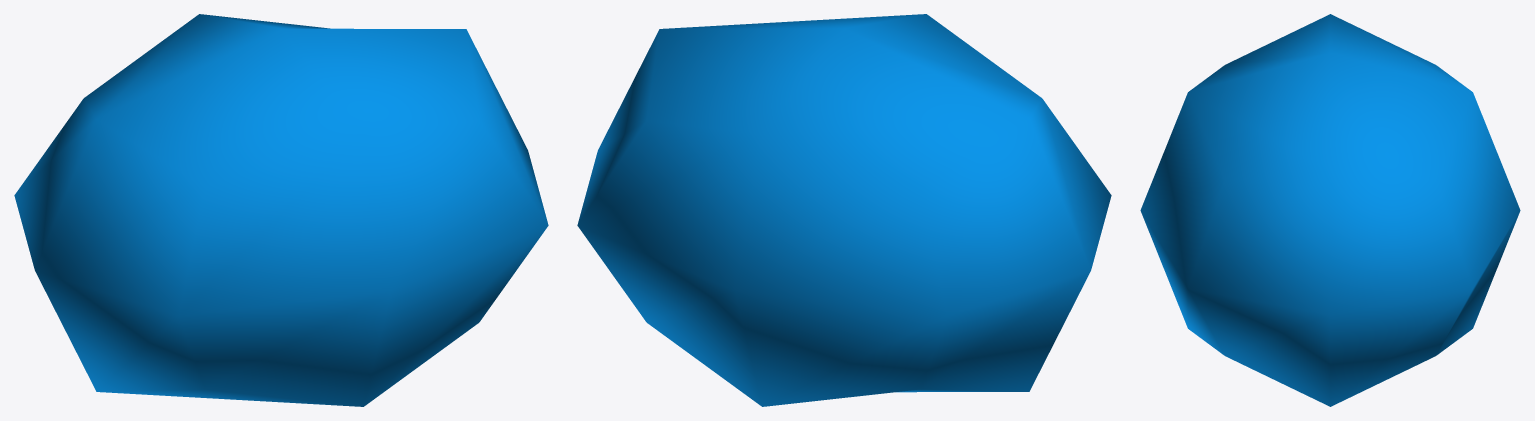
File: Fly.fbx
3 views of the same model, side by side, from view 1: azimuth 30°, elevation 25°; view 2: azimuth 150°, elevation 25°; view 3: azimuth 270°, elevation 25° (orthographic). The views are drawn at different scales.
Visible parts, largest first — view 1: Fly; view 2: Fly; view 3: Fly.
Part boxes in pixels (left/top/right/bottom): Fly: left=14, top=14, right=548, bottom=406; Fly: left=577, top=14, right=1111, bottom=406; Fly: left=1140, top=14, right=1520, bottom=406.
Bounding box in the file's own units: 7.79 × 5.49 × 6.
